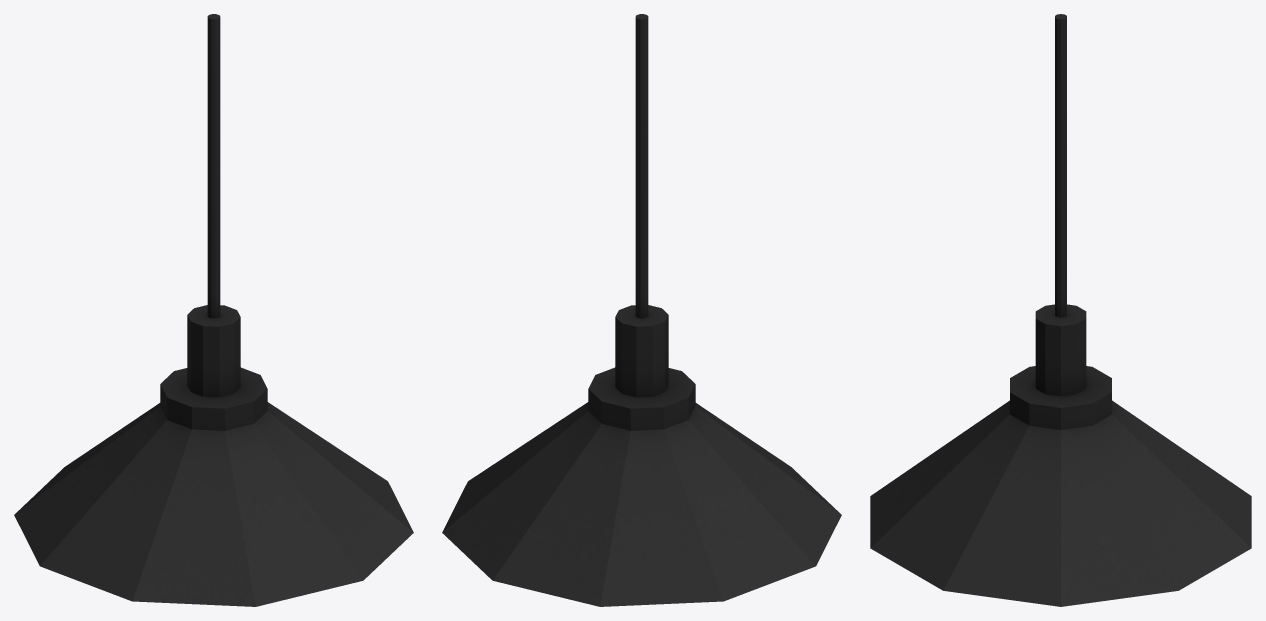
Rendered from Light_Hanging.fbx.
3 renders of one model, left to right at view 1: azimuth 30°, elevation 25°; view 2: azimuth 150°, elevation 25°; view 3: azimuth 270°, elevation 25°, orthographic.
Visible parts, largest first — view 1: Light_Hanging; view 2: Light_Hanging; view 3: Light_Hanging.
Boxes of the visible parts, left/top/right/bottom form: Light_Hanging: left=14, top=14, right=413, bottom=606; Light_Hanging: left=442, top=14, right=841, bottom=606; Light_Hanging: left=870, top=14, right=1251, bottom=606.
Bounding box in the file's own units: 0.5466 × 0.7818 × 0.5198.
